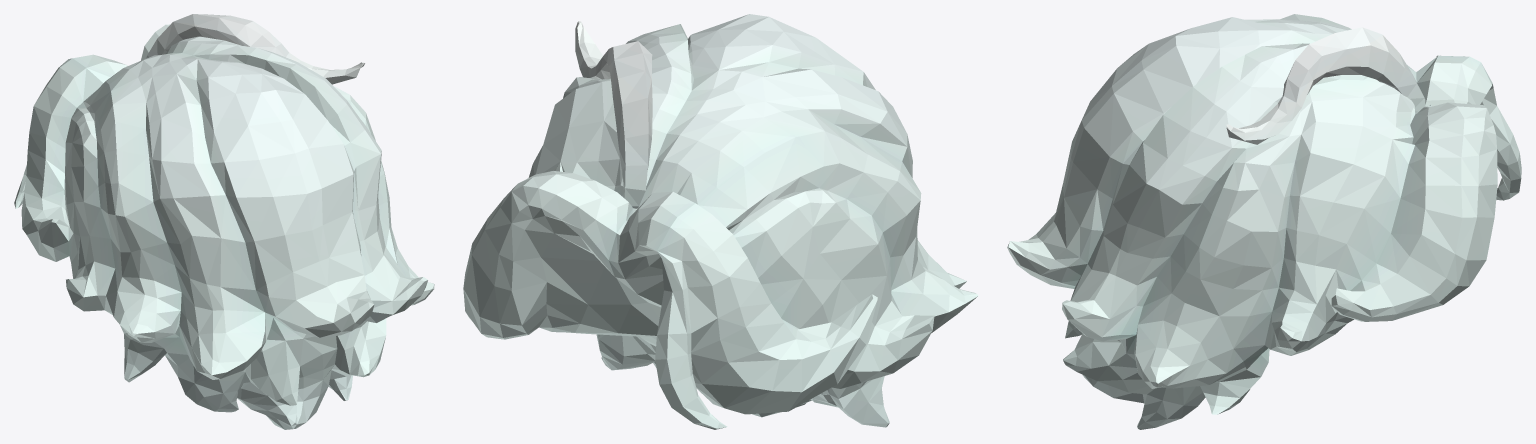
The model's file is CharSkyKid_Hair_SunlightSurfer.glb.
The picture shows the model from 3 angles, left to right: view 1: azimuth 30°, elevation 25°; view 2: azimuth 150°, elevation 25°; view 3: azimuth 270°, elevation 25°; orthographic projection. The views are drawn at different scales.
Visible parts, largest first — view 1: CharSkyKid_Hair_SunlightSurfer; view 2: CharSkyKid_Hair_SunlightSurfer; view 3: CharSkyKid_Hair_SunlightSurfer.
Boxes of the visible parts, x1,y1,x2,y2 form: CharSkyKid_Hair_SunlightSurfer: [14, 14, 434, 429]; CharSkyKid_Hair_SunlightSurfer: [463, 14, 978, 429]; CharSkyKid_Hair_SunlightSurfer: [1007, 14, 1521, 429].
Size of the model in its own units: 3.33 by 3.24 by 4.02.
1 material, 1 textured.
